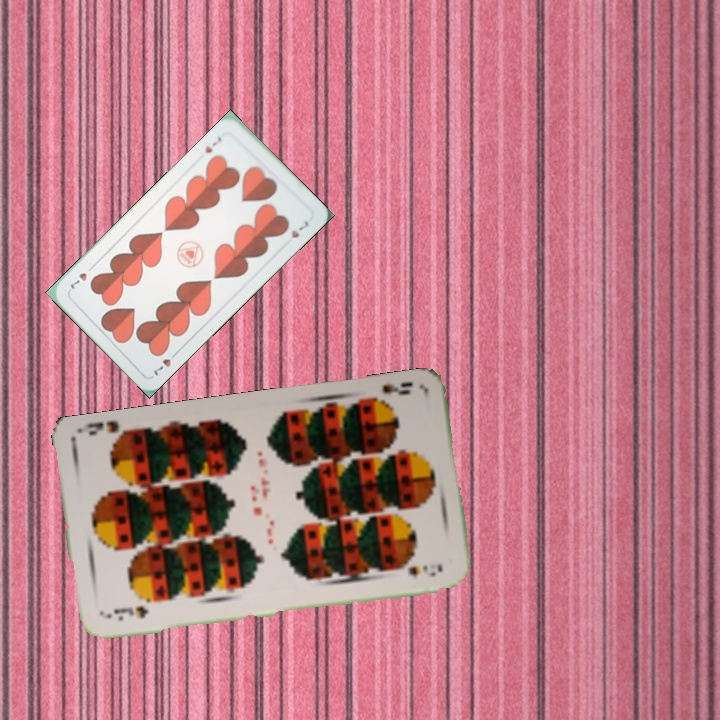H7: (150, 346, 181, 379), (201, 133, 225, 155)
S9: (364, 378, 416, 409), (101, 602, 150, 623)
